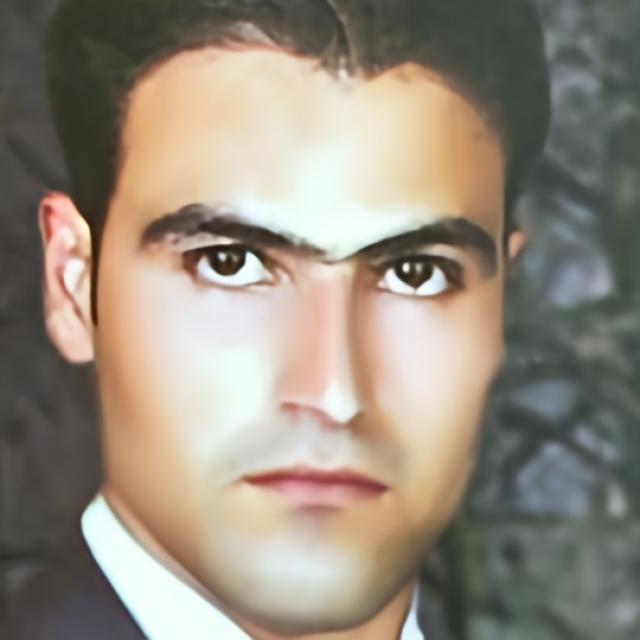neutral: (93, 56, 500, 614)
